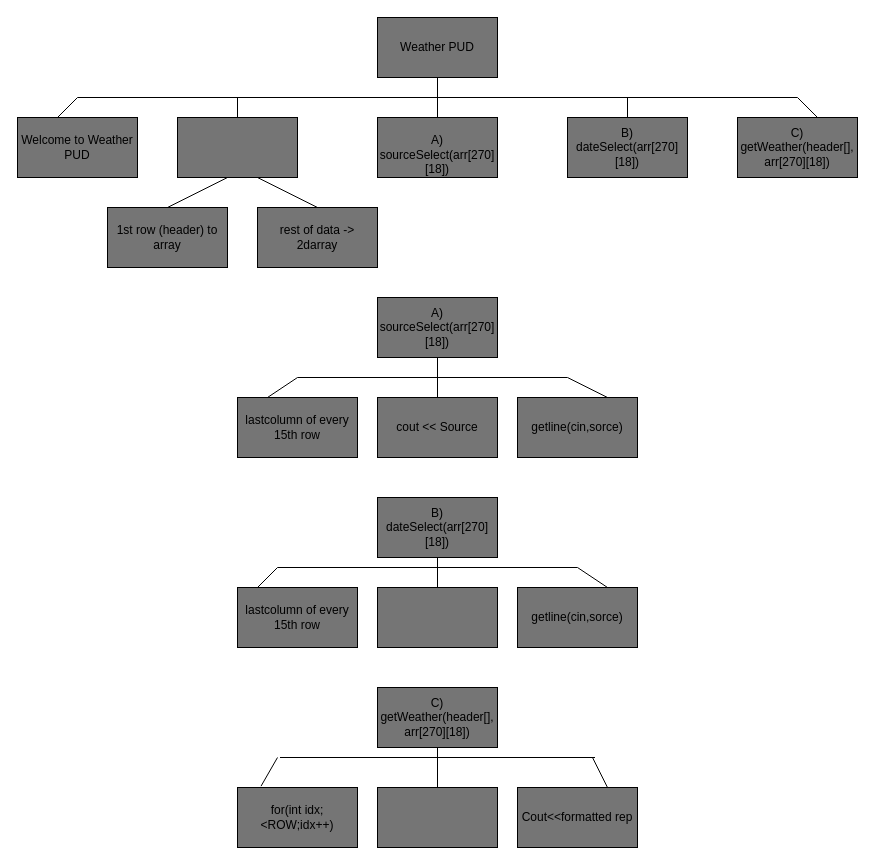
The diagram is 875 pixels wide and 865 high, and some of its shapes have lost their labels. Each missing label, with the centre of its shape:
"cout << date" belongs at pixel 437 617.
"fromFile(Filename, header[], arr[270][18])" belongs at pixel 237 147.
"ROW -15 + index" belongs at pixel 437 817.
